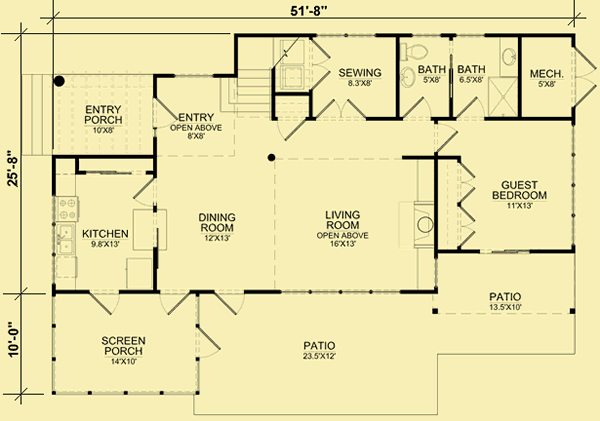door: (309, 36, 332, 90), (575, 49, 595, 111), (317, 98, 368, 120), (150, 96, 180, 132), (211, 290, 245, 317), (457, 160, 477, 203), (196, 323, 220, 358), (454, 94, 486, 120), (86, 290, 118, 316), (435, 120, 458, 154), (459, 204, 477, 247), (161, 291, 191, 316), (134, 174, 155, 208), (403, 96, 431, 120)
large_sink: (399, 41, 429, 68)
small_sink: (497, 36, 520, 76), (395, 65, 418, 92)
stairs: (219, 67, 272, 116)
twin_sink: (55, 220, 77, 256)
windows: (410, 31, 443, 39), (455, 31, 486, 39)
